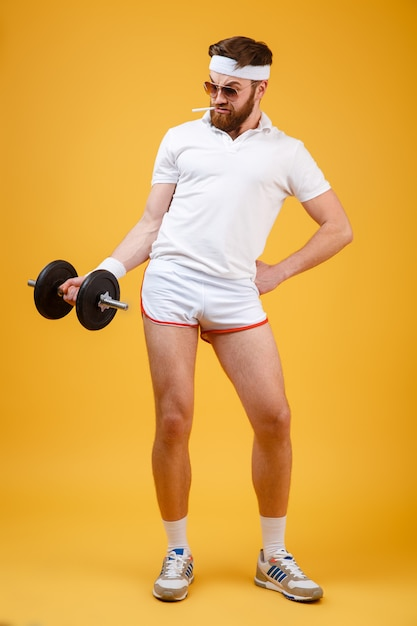cigarette: (192, 106, 216, 114)
